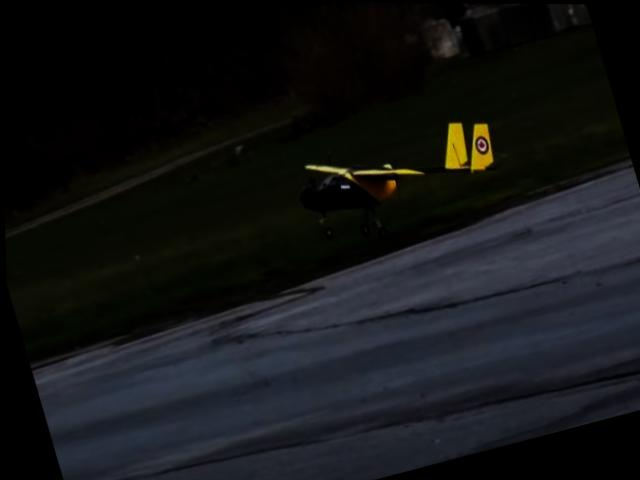iha: (272, 107, 509, 254)
